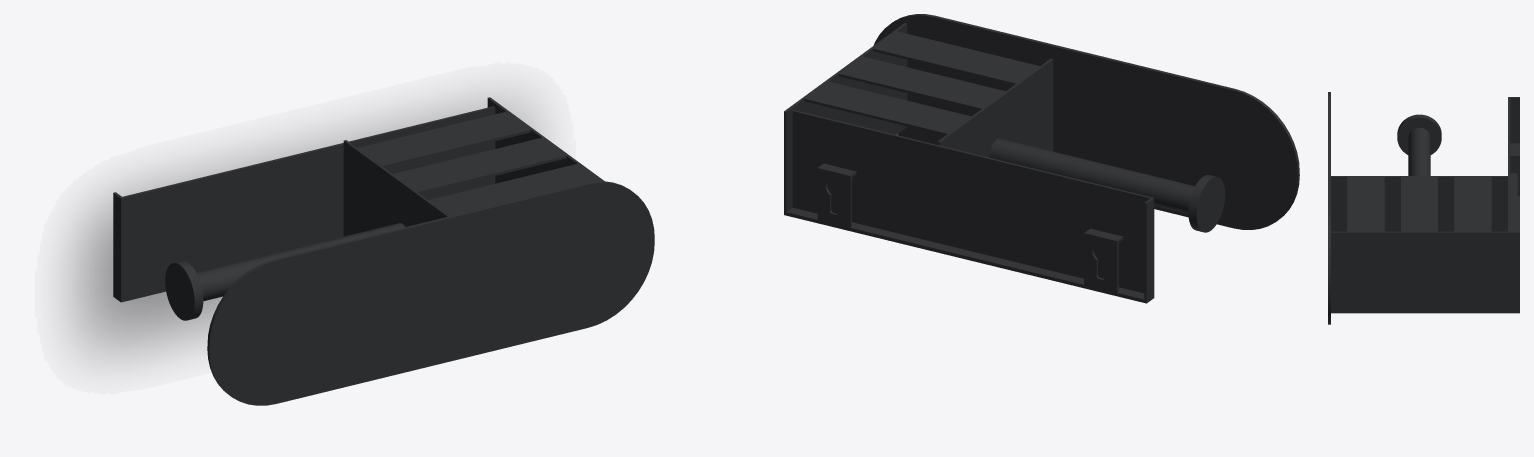
Rendered from round-duetto.5f9f5c7fa0.ar.glb.
3 views of the same model, side by side, from view 1: azimuth 30°, elevation 25°; view 2: azimuth 150°, elevation 25°; view 3: azimuth 270°, elevation 25° (orthographic). The views are drawn at different scales.
Parts seen in each view (by area): view 1: NAUO1, object 2; view 2: NAUO1; view 3: NAUO1.
Part boxes in pixels (x1,y1,x2,y2): NAUO1: (113,97,654,405); object 2: (69,101,534,355); NAUO1: (784,14,1299,303); NAUO1: (1328,92,1519,324).
Size of the model in its own units: 0.34 by 0.16 by 0.129.
2 materials, 1 textured.
